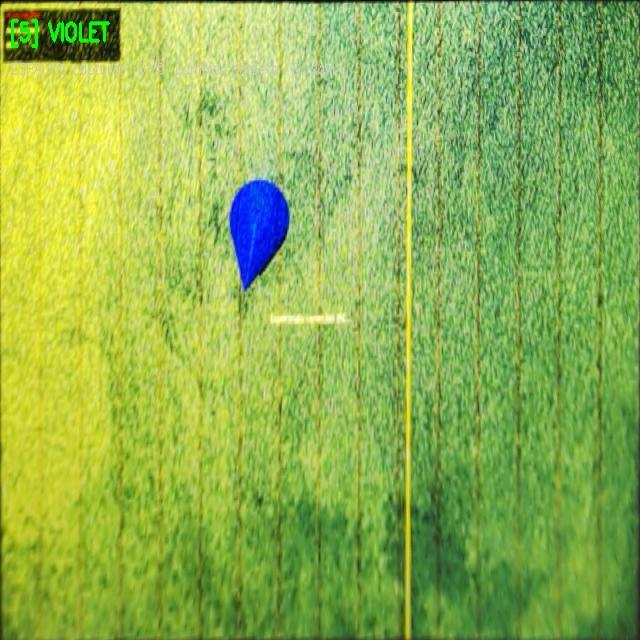violet: (230, 180, 289, 289)
